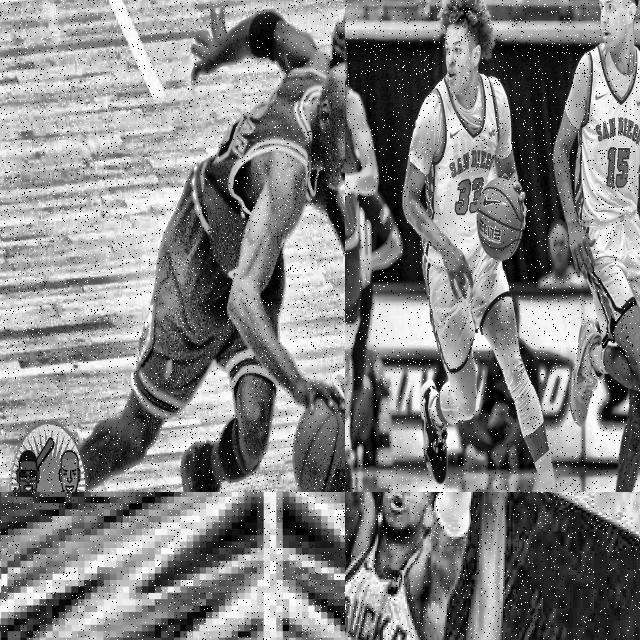Basketball: (294, 399, 345, 492), (477, 176, 523, 259)
